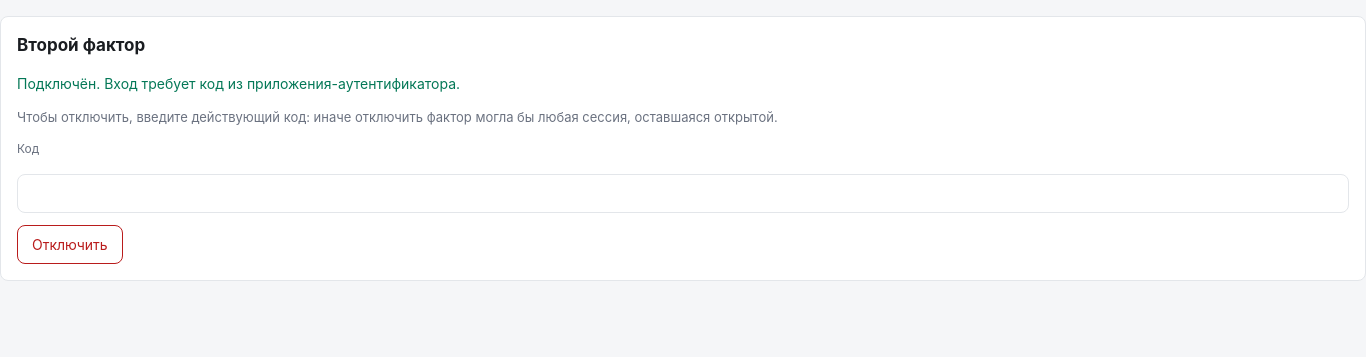
Test case: MfaSettings › сообщение проверки формы показывается как есть
The width and height of the screenshot is (1366, 357).
Click the button "Отключить" at (70, 244), box [17,225,123,264]
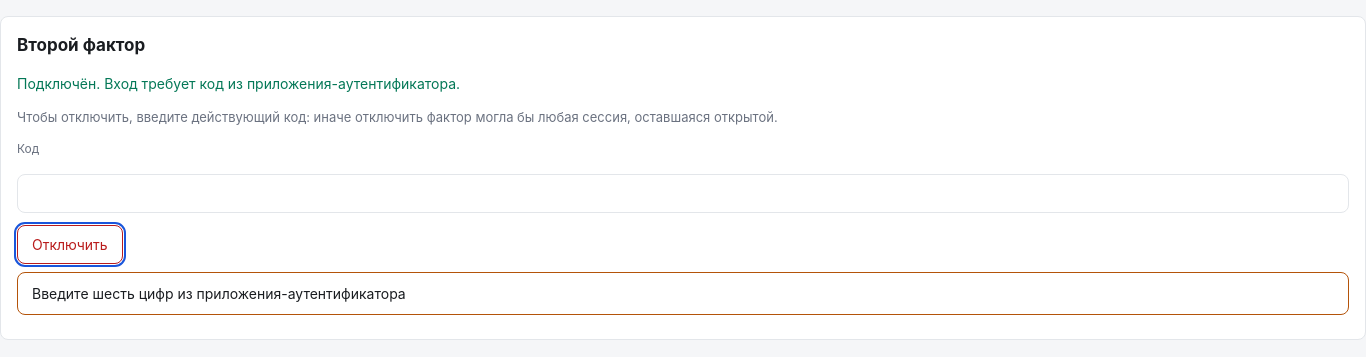
expect the message shows "шесть цифр": met, box [32,285,406,302]
